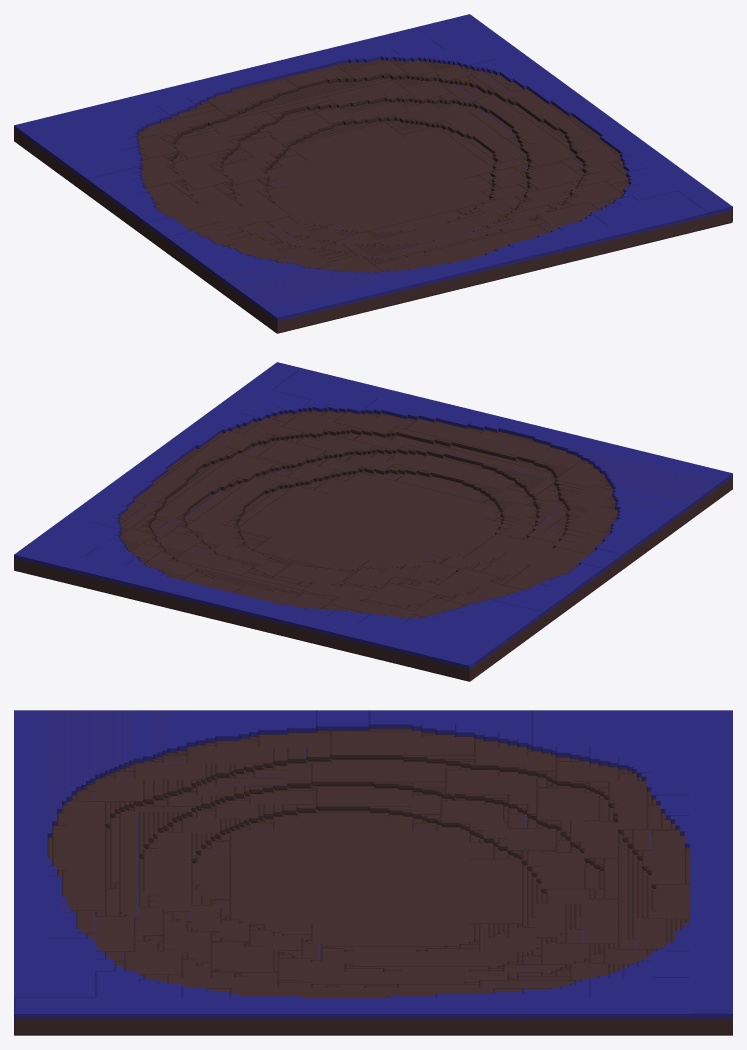
The model's file is Lake.dae.
The picture shows the model from 3 angles, top to bottom: view 1: azimuth 30°, elevation 25°; view 2: azimuth 150°, elevation 25°; view 3: azimuth 270°, elevation 25°; orthographic projection. The views are drawn at different scales.
Parts seen in each view (by area): view 1: Node-local; view 2: Node-local; view 3: Node-local.
Boxes of the visible parts, <box> form: Node-local: <box>14,14,732,333</box>; Node-local: <box>14,362,732,681</box>; Node-local: <box>14,710,732,1035</box>.
Bounding box in the file's own units: 150 × 5 × 150.
1 material, 1 textured.
